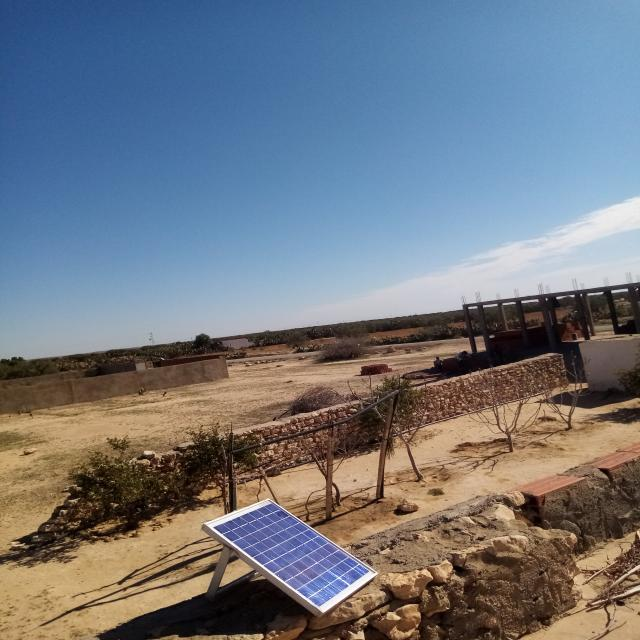no faulty: (204, 498, 379, 613)
